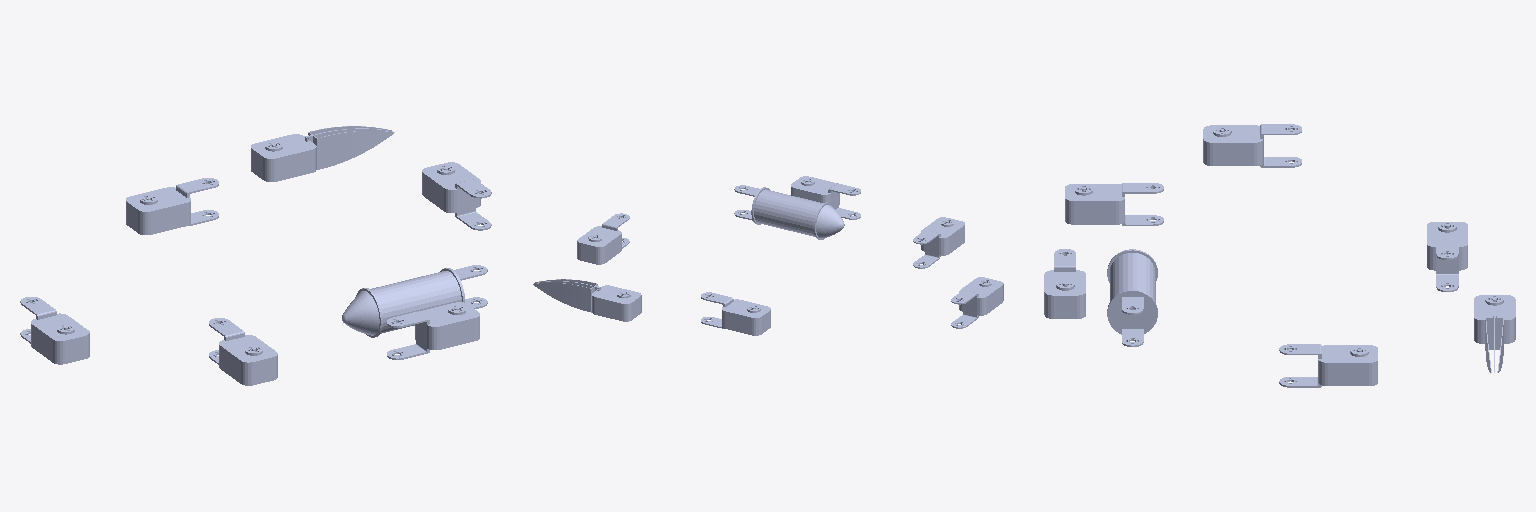
The robot description file, URDF, robot "bus_assembly_total_5":
<?xml version="1.0" encoding="utf-8"?>
<!-- This URDF was automatically created by SolidWorks to URDF Exporter! Originally created by Stephen Brawner (brawner@gmail.com) 
     Commit Version: 1.5.1-0-g916b5db  Build Version: 1.5.7152.31018
     For more information, please see http://wiki.ros.org/sw_urdf_exporter -->
<robot
  name="bus_assembly_total_5">
  <link
    name="base_link">
    <inertial>
      <origin
        xyz="-0.181874471357787 0.221366871689755 0.00201088275073096"
        rpy="0 0 0" />
      <mass
        value="0.0714886173099694" />
      <inertia
        ixx="3.48906593535472E-05"
        ixy="-4.66641534539128E-23"
        ixz="-3.15030924733423E-21"
        iyy="5.80523540227651E-05"
        iyz="-1.11023236046535E-21"
        izz="5.69343997438361E-05" />
    </inertial>
    <visual>
      <origin
        xyz="0 0 0"
        rpy="0 0 0" />
      <geometry>
        <mesh
          filename="package://bus_assembly_total_5/meshes/base_link.STL" />
      </geometry>
      <material
        name="">
        <color
          rgba="0.792156862745098 0.819607843137255 0.933333333333333 1" />
      </material>
    </visual>
    <collision>
      <origin
        xyz="0 0 0"
        rpy="0 0 0" />
      <geometry>
        <mesh
          filename="package://bus_assembly_total_5/meshes/base_link.STL" />
      </geometry>
    </collision>
  </link>
  <link
    name="link1">
    <inertial>
      <origin
        xyz="-0.168335880356498 0.333308955557284 0.00218131066633493"
        rpy="0 0 0" />
      <mass
        value="0.0861353887155522" />
      <inertia
        ixx="4.35086698833579E-05"
        ixy="1.7208793517248E-10"
        ixz="-6.51211834958038E-13"
        iyy="1.99776586952291E-05"
        iyz="5.06437415996429E-08"
        izz="4.97203166390497E-05" />
    </inertial>
    <visual>
      <origin
        xyz="0 0 0"
        rpy="0 0 0" />
      <geometry>
        <mesh
          filename="package://bus_assembly_total_5/meshes/link1.STL" />
      </geometry>
      <material
        name="">
        <color
          rgba="0.792156862745098 0.819607843137255 0.933333333333333 1" />
      </material>
    </visual>
    <collision>
      <origin
        xyz="0 0 0"
        rpy="0 0 0" />
      <geometry>
        <mesh
          filename="package://bus_assembly_total_5/meshes/link1.STL" />
      </geometry>
    </collision>
  </link>
  <joint
    name="joint1"
    type="revolute">
    <origin
      xyz="-0.09382 -0.00066923 0"
      rpy="0 0 0" />
    <parent
      link="base_link" />
    <child
      link="link1" />
    <axis
      xyz="0 0 -1" />
    <limit
      lower="-1.5708"
      upper="1.5708"
      effort="1.5"
      velocity="1" />
  </joint>
  <link
    name="link2">
    <inertial>
      <origin
        xyz="-0.168335880356497 0.333308955557284 0.00218131066633504"
        rpy="0 0 0" />
      <mass
        value="0.0861353887155522" />
      <inertia
        ixx="4.35086698833578E-05"
        ixy="1.72087935187295E-10"
        ixz="-6.51211835531137E-13"
        iyy="1.99776586952291E-05"
        iyz="5.06437415996265E-08"
        izz="4.97203166390496E-05" />
    </inertial>
    <visual>
      <origin
        xyz="0 0 0"
        rpy="0 0 0" />
      <geometry>
        <mesh
          filename="package://bus_assembly_total_5/meshes/link2.STL" />
      </geometry>
      <material
        name="">
        <color
          rgba="0.792156862745098 0.819607843137255 0.933333333333333 1" />
      </material>
    </visual>
    <collision>
      <origin
        xyz="0 0 0"
        rpy="0 0 0" />
      <geometry>
        <mesh
          filename="package://bus_assembly_total_5/meshes/link2.STL" />
      </geometry>
    </collision>
  </link>
  <joint
    name="joint2"
    type="revolute">
    <origin
      xyz="-0.0747 0 0"
      rpy="0 0 0" />
    <parent
      link="link1" />
    <child
      link="link2" />
    <axis
      xyz="0 0 1" />
    <limit
      lower="-1.5708"
      upper="1.5708"
      effort="1.5"
      velocity="1" />
  </joint>
  <link
    name="link3">
    <inertial>
      <origin
        xyz="-0.168335880356497 0.333308955557284 0.00218131066633483"
        rpy="0 0 0" />
      <mass
        value="0.0861353887155522" />
      <inertia
        ixx="4.35086698833578E-05"
        ixy="1.72087935157799E-10"
        ixz="-6.51211835809058E-13"
        iyy="1.99776586952291E-05"
        iyz="5.06437415996732E-08"
        izz="4.97203166390496E-05" />
    </inertial>
    <visual>
      <origin
        xyz="0 0 0"
        rpy="0 0 0" />
      <geometry>
        <mesh
          filename="package://bus_assembly_total_5/meshes/link3.STL" />
      </geometry>
      <material
        name="">
        <color
          rgba="0.792156862745098 0.819607843137255 0.933333333333333 1" />
      </material>
    </visual>
    <collision>
      <origin
        xyz="0 0 0"
        rpy="0 0 0" />
      <geometry>
        <mesh
          filename="package://bus_assembly_total_5/meshes/link3.STL" />
      </geometry>
    </collision>
  </link>
  <joint
    name="joint3"
    type="revolute">
    <origin
      xyz="-0.0747 0 0"
      rpy="0 0 0" />
    <parent
      link="link2" />
    <child
      link="link3" />
    <axis
      xyz="0 0 1" />
    <limit
      lower="-1.5708"
      upper="1.5708"
      effort="1.5"
      velocity="1" />
  </joint>
  <link
    name="link4">
    <inertial>
      <origin
        xyz="-0.168335880356497 0.333308955557284 0.0021813106663351"
        rpy="0 0 0" />
      <mass
        value="0.0861353887155522" />
      <inertia
        ixx="4.35086698833579E-05"
        ixy="1.72087935154415E-10"
        ixz="-6.51211832486178E-13"
        iyy="1.99776586952291E-05"
        iyz="5.06437415996573E-08"
        izz="4.97203166390497E-05" />
    </inertial>
    <visual>
      <origin
        xyz="0 0 0"
        rpy="0 0 0" />
      <geometry>
        <mesh
          filename="package://bus_assembly_total_5/meshes/link4.STL" />
      </geometry>
      <material
        name="">
        <color
          rgba="0.792156862745098 0.819607843137255 0.933333333333333 1" />
      </material>
    </visual>
    <collision>
      <origin
        xyz="0 0 0"
        rpy="0 0 0" />
      <geometry>
        <mesh
          filename="package://bus_assembly_total_5/meshes/link4.STL" />
      </geometry>
    </collision>
  </link>
  <joint
    name="joint4"
    type="revolute">
    <origin
      xyz="-0.0747 0 0"
      rpy="0 0 0" />
    <parent
      link="link3" />
    <child
      link="link4" />
    <axis
      xyz="0 0 1" />
    <limit
      lower="-1.5708"
      upper="1.5708"
      effort="1.5"
      velocity="1" />
  </joint>
  <link
    name="link5">
    <inertial>
      <origin
        xyz="-0.168335880356497 0.333308955557284 0.00218131066633522"
        rpy="0 0 0" />
      <mass
        value="0.0861353887155523" />
      <inertia
        ixx="4.35086698833578E-05"
        ixy="1.72087935147863E-10"
        ixz="-6.51211840978457E-13"
        iyy="1.99776586952291E-05"
        iyz="5.06437415996427E-08"
        izz="4.97203166390496E-05" />
    </inertial>
    <visual>
      <origin
        xyz="0 0 0"
        rpy="0 0 0" />
      <geometry>
        <mesh
          filename="package://bus_assembly_total_5/meshes/link5.STL" />
      </geometry>
      <material
        name="">
        <color
          rgba="0.792156862745098 0.819607843137255 0.933333333333333 1" />
      </material>
    </visual>
    <collision>
      <origin
        xyz="0 0 0"
        rpy="0 0 0" />
      <geometry>
        <mesh
          filename="package://bus_assembly_total_5/meshes/link5.STL" />
      </geometry>
    </collision>
  </link>
  <joint
    name="joint5"
    type="revolute">
    <origin
      xyz="-0.0747 0 0"
      rpy="0 0 0" />
    <parent
      link="link4" />
    <child
      link="link5" />
    <axis
      xyz="0 0 1" />
    <limit
      lower="-1.5708"
      upper="1.5708"
      effort="1.5"
      velocity="1" />
  </joint>
  <link
    name="link6">
    <inertial>
      <origin
        xyz="0.356380402981051 0.612840978748689 0.00170229839200515"
        rpy="0 0 0" />
      <mass
        value="0.0915951127437759" />
      <inertia
        ixx="1.94082875230832E-05"
        ixy="-1.28895508440964E-17"
        ixz="6.24174548324948E-09"
        iyy="4.01857882657349E-05"
        iyz="1.75416331048459E-15"
        izz="4.72146296606775E-05" />
    </inertial>
    <visual>
      <origin
        xyz="0 0 0"
        rpy="0 0 0" />
      <geometry>
        <mesh
          filename="package://bus_assembly_total_5/meshes/link6.STL" />
      </geometry>
      <material
        name="">
        <color
          rgba="0.792156862745098 0.819607843137255 0.933333333333333 1" />
      </material>
    </visual>
    <collision>
      <origin
        xyz="0 0 0"
        rpy="0 0 0" />
      <geometry>
        <mesh
          filename="package://bus_assembly_total_5/meshes/link6.STL" />
      </geometry>
    </collision>
  </link>
  <joint
    name="joint6"
    type="revolute">
    <origin
      xyz="-0.0747 0 0"
      rpy="0 0 0" />
    <parent
      link="link5" />
    <child
      link="link6" />
    <axis
      xyz="0 0 1" />
    <limit
      lower="-1.5708"
      upper="1.5708"
      effort="1.5"
      velocity="1" />
  </joint>
</robot>

--- What the picture shows (computed from the rendered views, not written in the file) ---
3 views of the same robot in one strip: view 1: azimuth 30°, elevation 25°; view 2: azimuth 150°, elevation 25°; view 3: azimuth 270°, elevation 25° (orthographic).
Model bus_assembly_total_5 with 7 links and 6 joints (6 revolute), rooted at base_link, posed every joint at zero.
Links seen in each view (by area): view 1: base_link, link6, link4, link2, link3, link5, link1; view 2: base_link, link6, link2, link5, link3, link1, link4; view 3: base_link, link5, link1, link3, link4, link2, link6.
Boxes of the visible links, x1,y1,x2,y2 form: base_link: [342, 265, 487, 337]; link6: [251, 126, 394, 181]; link4: [387, 302, 479, 359]; link2: [126, 178, 218, 234]; link3: [422, 162, 491, 230]; link5: [20, 297, 89, 364]; link1: [209, 318, 277, 385]; base_link: [734, 185, 844, 239]; link6: [533, 279, 641, 321]; link2: [701, 292, 770, 335]; link5: [951, 277, 1003, 328]; link3: [577, 213, 629, 264]; link1: [913, 217, 964, 268]; link4: [791, 176, 860, 219]; base_link: [1107, 249, 1157, 346]; link5: [1203, 124, 1301, 167]; link1: [1065, 183, 1163, 225]; link3: [1279, 344, 1377, 387]; link4: [1044, 249, 1085, 318]; link2: [1427, 222, 1467, 291]; link6: [1474, 295, 1515, 372].
Bounding box of the posed robot: 0.6069 × 0.5084 × 0.055 m (x, y, z).
Meshes: 7 distinct files referenced, 7 mesh visuals loaded (7 binary STL).
